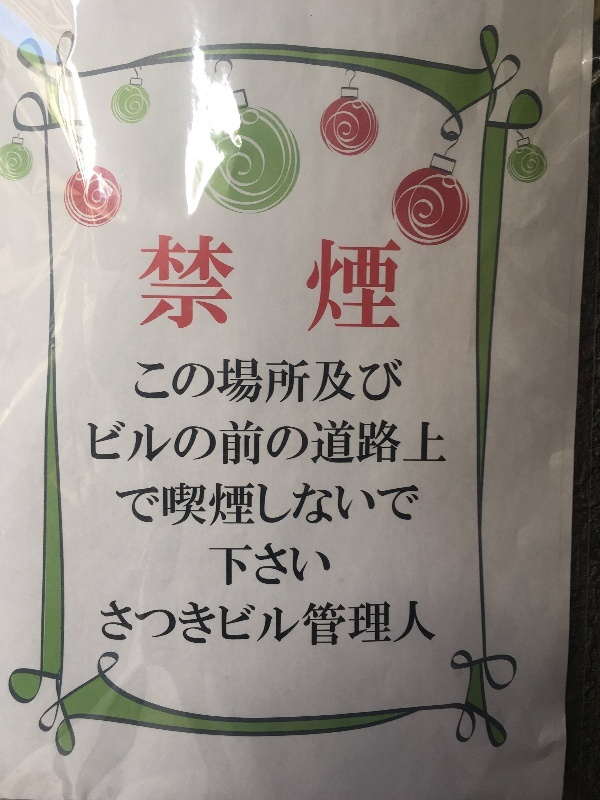text: (145, 233, 160, 336), (161, 233, 176, 336), (177, 233, 192, 336), (193, 233, 208, 336), (209, 233, 224, 336), (225, 233, 240, 336), (241, 233, 256, 336), (257, 233, 272, 336), (273, 233, 288, 336), (289, 233, 304, 336), (305, 233, 320, 336), (321, 233, 336, 336), (337, 233, 352, 336), (353, 233, 368, 336), (369, 233, 384, 336), (385, 233, 400, 336), (433, 413, 449, 474), (97, 413, 112, 474), (113, 413, 128, 474), (129, 413, 144, 474), (145, 413, 160, 474), (161, 413, 176, 474), (177, 413, 192, 474), (193, 413, 208, 474), (209, 413, 224, 474), (225, 413, 240, 474), (241, 413, 256, 474), (257, 413, 272, 474), (273, 413, 288, 474), (289, 413, 304, 474), (305, 413, 320, 474), (321, 413, 336, 474), (337, 413, 352, 474), (353, 413, 368, 474), (369, 413, 384, 474), (385, 413, 400, 474), (401, 413, 416, 474), (417, 413, 432, 474), (113, 595, 128, 652), (129, 595, 144, 652), (145, 595, 160, 652), (161, 595, 176, 652), (177, 595, 192, 652), (193, 595, 208, 652), (209, 595, 224, 652), (225, 595, 240, 652), (241, 595, 256, 652), (257, 595, 272, 652), (273, 595, 288, 652), (289, 595, 304, 652), (305, 595, 320, 652), (321, 595, 336, 652), (337, 595, 352, 652), (353, 595, 368, 652), (369, 595, 384, 652), (385, 595, 400, 652), (401, 595, 416, 652), (417, 595, 432, 652), (145, 354, 160, 409), (161, 354, 176, 409), (177, 354, 192, 409), (193, 354, 208, 409), (209, 354, 224, 409), (225, 354, 240, 409), (241, 354, 256, 409), (257, 354, 272, 409), (273, 354, 288, 409), (289, 354, 304, 409), (305, 354, 320, 409), (321, 354, 336, 409), (337, 354, 352, 409), (353, 354, 368, 409), (369, 354, 384, 409), (385, 354, 400, 409), (98, 595, 112, 652), (113, 478, 128, 531), (129, 478, 144, 531), (145, 478, 160, 531), (161, 478, 176, 531), (177, 478, 192, 531), (193, 478, 208, 531), (209, 478, 224, 531), (225, 478, 240, 531), (241, 478, 256, 531), (257, 478, 272, 531), (273, 478, 288, 531), (289, 478, 304, 531), (305, 478, 320, 531), (321, 478, 336, 531), (337, 478, 352, 531), (353, 478, 368, 531), (369, 478, 384, 531), (385, 478, 400, 531), (401, 478, 416, 531), (209, 539, 224, 589), (225, 539, 240, 589), (241, 539, 256, 589), (257, 539, 272, 589), (273, 539, 288, 589), (289, 539, 304, 589), (305, 539, 320, 589), (137, 233, 144, 336), (134, 354, 144, 409), (321, 539, 332, 589), (88, 413, 96, 474), (433, 595, 438, 652), (417, 478, 421, 531), (401, 354, 403, 409), (401, 233, 402, 336)
